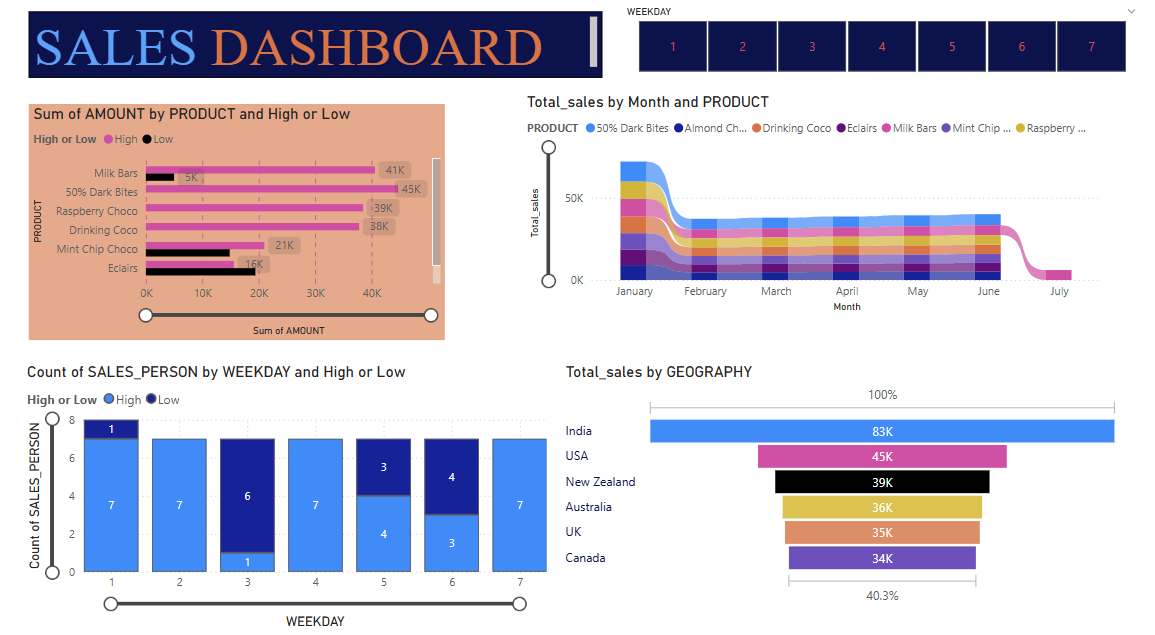

This screenshot's page, from the dashboard's own definition file:
{"tool":"powerbi","page":{"name":"DAX","canvas":[1280,720],"ordinal":3},"visuals":[{"type":"clusteredBarChart","fields":{"Category":["sales_data.PRODUCT"],"Series":["sales_data.High or Low"],"Y":["Sum(sales_data.AMOUNT)"]},"box":[42.5,126.2,456.9,259.3],"z":0},{"type":"ribbonChart","fields":{"Category":["sales_data.SALE_DATE.Variation.Date Hierarchy.Month"],"Series":["sales_data.PRODUCT"],"Y":["sales_data.Total_sales"]},"box":[584.6,113.9,640.8,245.6],"z":1000},{"type":"columnChart","fields":{"Y":["CountNonNull(sales_data.SALES_PERSON)"],"Series":["sales_data.High or Low"],"Category":["sales_data.WEEKDAY"]},"box":[35.7,410.3,580.4,296.4],"z":1001},{"type":"funnel","fields":{"Category":["sales_data.GEOGRAPHY"],"Y":["sales_data.Total_sales"]},"box":[627.1,410.3,617.5,270.3],"z":1002},{"type":"slicer","fields":{"Values":["sales_data.WEEKDAY"]},"box":[686.1,13.7,584.6,83.7],"z":1003},{"type":"textbox","box":[42.5,24.7,629.8,72.7],"z":1004}]}

Visuals, with their boxes in screenshot pixels (x1, y1, x2, y2), scaled from the page's 1280x720 canvas onto the 1155x635 screenshot:
clusteredBarChart - sales_data.PRODUCT x sales_data.High or Low: (left=38, top=111, right=451, bottom=340)
ribbonChart - sales_data.SALE_DATE.Variation.Date Hierarchy.Month x sales_data.PRODUCT: (left=528, top=100, right=1106, bottom=317)
columnChart - CountNonNull(sales_data.SALES_PERSON) x sales_data.High or Low: (left=32, top=362, right=556, bottom=623)
funnel - sales_data.GEOGRAPHY x sales_data.Total_sales: (left=566, top=362, right=1123, bottom=600)
slicer - sales_data.WEEKDAY: (left=619, top=12, right=1147, bottom=86)
textbox: (left=38, top=22, right=607, bottom=86)
